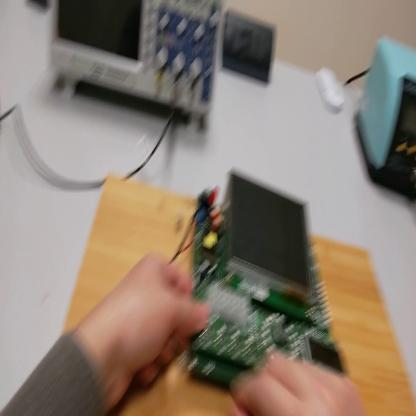hand: (100, 251, 212, 394), (229, 353, 365, 414)
low voltage board: (179, 160, 361, 416)
oscilloscope: (51, 3, 221, 139)
welder station: (359, 38, 414, 201)
working area: (63, 175, 414, 412)
